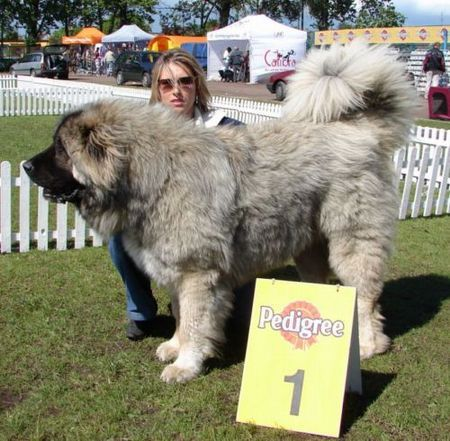cau_ovcharka: (22, 38, 421, 385)
human_face: (158, 64, 196, 113)
person: (110, 46, 247, 340), (421, 42, 446, 99)
